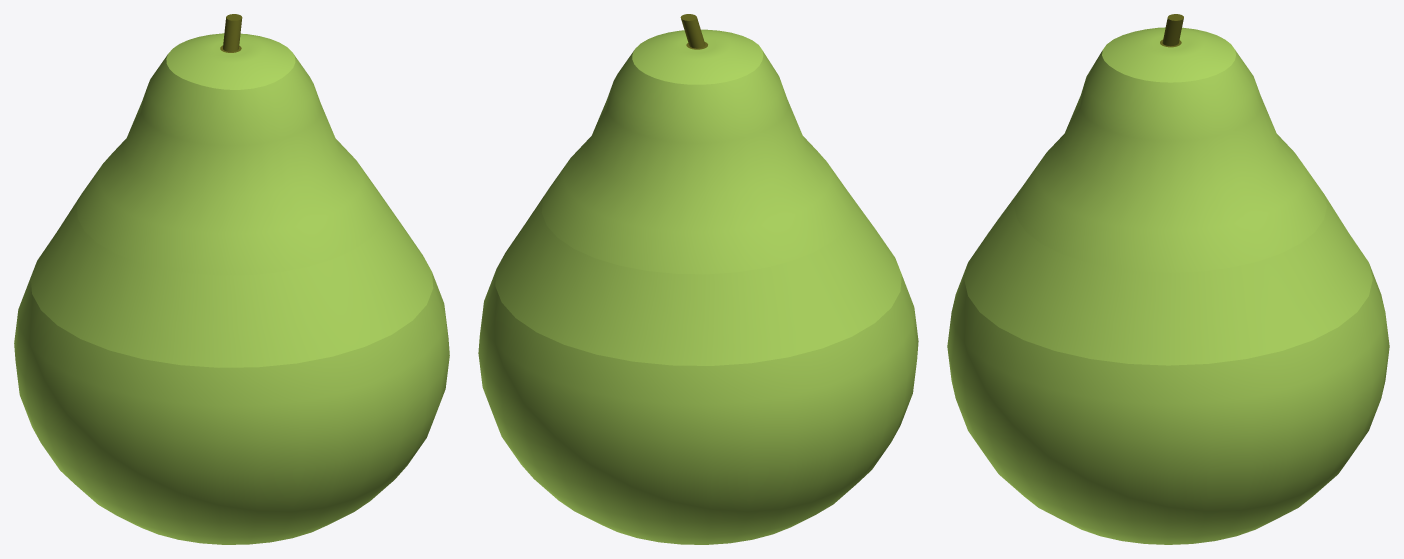
File: Fruit_Pear_Sliced.fbx
3 renders of one model, left to right at view 1: azimuth 30°, elevation 25°; view 2: azimuth 150°, elevation 25°; view 3: azimuth 270°, elevation 25°, orthographic.
Visible parts, largest first — view 1: Pear_Top, Pear_Bottom; view 2: Pear_Top, Pear_Bottom; view 3: Pear_Top, Pear_Bottom.
Boxes of the visible parts, box(x1,y1,x2,y2) form: Pear_Top: box(30, 14, 433, 367); Pear_Bottom: box(14, 272, 449, 544); Pear_Top: box(495, 14, 901, 365); Pear_Bottom: box(478, 270, 918, 544); Pear_Top: box(964, 14, 1372, 365); Pear_Bottom: box(947, 264, 1389, 544).
Size of the model in its own units: 257 by 317 by 257.
